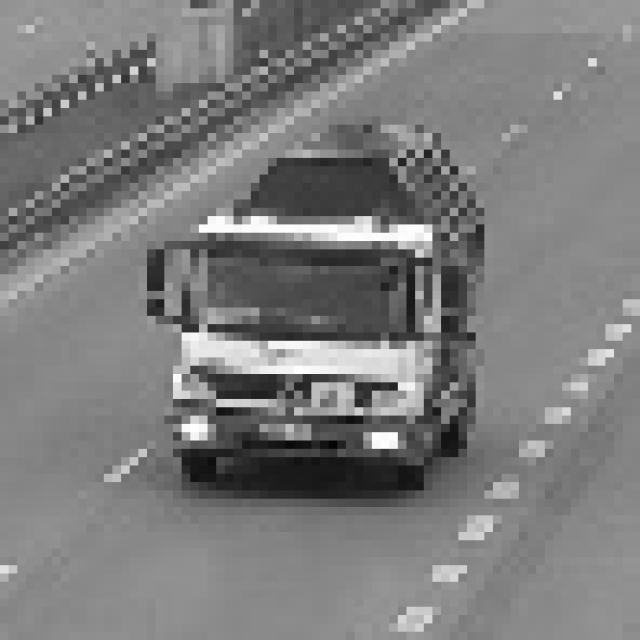truck: (138, 100, 484, 482)
